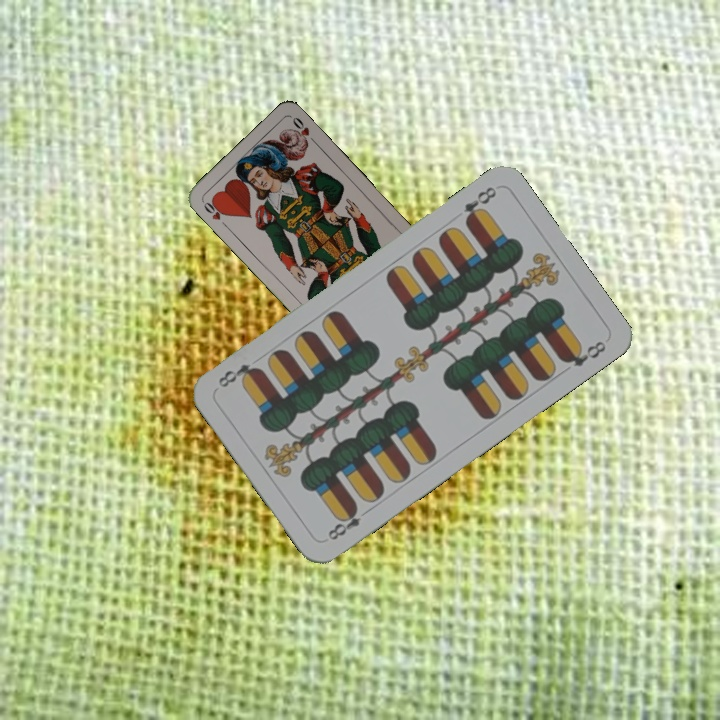E8: (323, 502, 373, 543), (460, 182, 499, 227)
HO: (199, 196, 230, 230)
